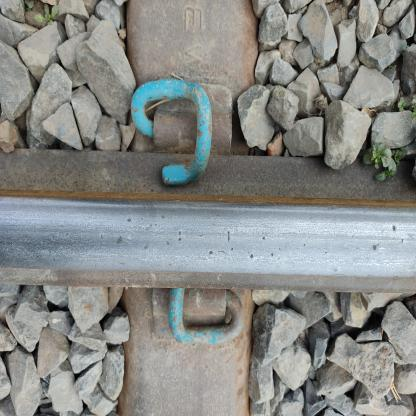Non Defective 1: (182, 219, 302, 352), (160, 68, 283, 164)
